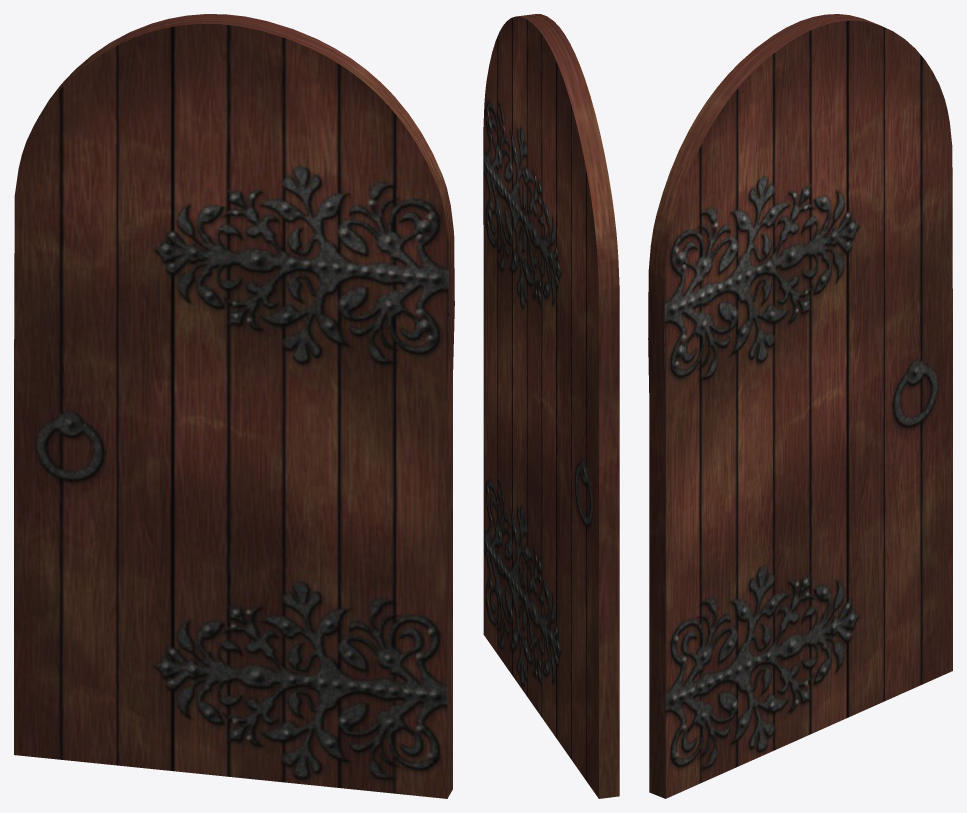
The model's file is door 13.obj.
3 views of the same model, side by side, from view 1: azimuth 30°, elevation 25°; view 2: azimuth 150°, elevation 25°; view 3: azimuth 270°, elevation 25° (orthographic). The views are drawn at different scales.
Parts seen in each view (by area): view 1: door_10:Mesh; view 2: door_10:Mesh; view 3: door_10:Mesh.
Part boxes in pixels (left/top/right/bottom): door_10:Mesh: left=14, top=14, right=454, bottom=798; door_10:Mesh: left=483, top=14, right=619, bottom=798; door_10:Mesh: left=648, top=14, right=952, bottom=798.
Bounding box in the file's own units: 49.28 × 120 × 46.99.
Materials: 1 (1 with a texture image).
